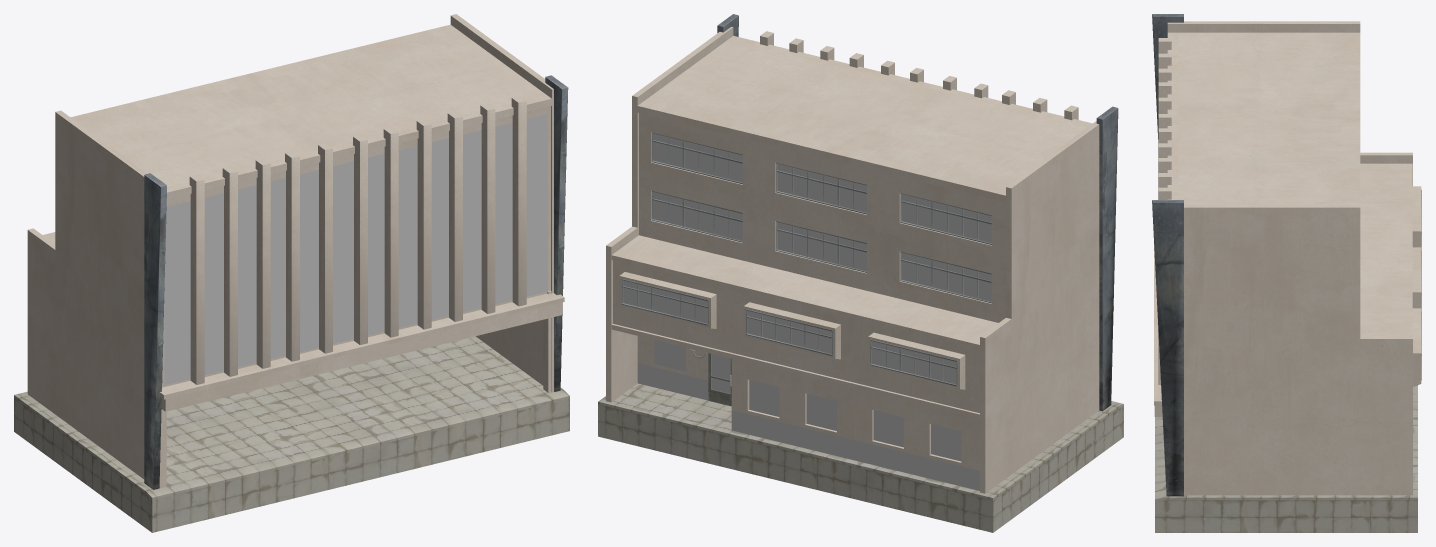
The model's file is mallbil_3x4_1_in.fbx.
The picture shows the model from 3 angles, left to right: view 1: azimuth 30°, elevation 25°; view 2: azimuth 150°, elevation 25°; view 3: azimuth 270°, elevation 25°; orthographic projection. The views are drawn at different scales.
Visible parts, largest first — view 1: mallbil_3x4_1_in; view 2: mallbil_3x4_1_in; view 3: mallbil_3x4_1_in.
Part boxes in pixels (x1,y1,x2,y2): mallbil_3x4_1_in: (14,14,569,532); mallbil_3x4_1_in: (598,14,1123,532); mallbil_3x4_1_in: (1152,14,1421,532).
Size of the model in its own units: 1811 by 1430 by 1065.
